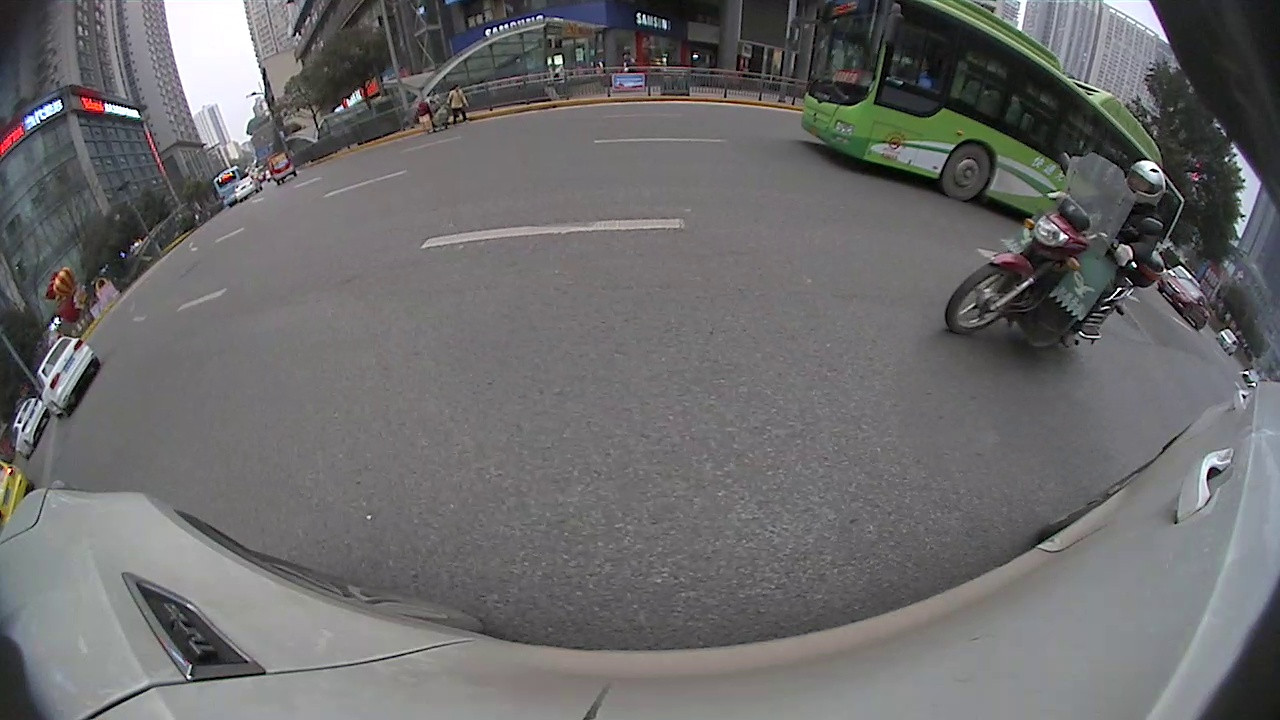bus: (801, 1, 1123, 212), (215, 166, 249, 206)
car: (36, 337, 97, 416), (1158, 275, 1207, 332), (14, 394, 46, 461), (234, 176, 260, 203)
front: (942, 257, 1023, 337), (938, 140, 993, 203)
person: (451, 85, 464, 120)
rider: (946, 156, 1165, 348), (268, 152, 293, 183)
